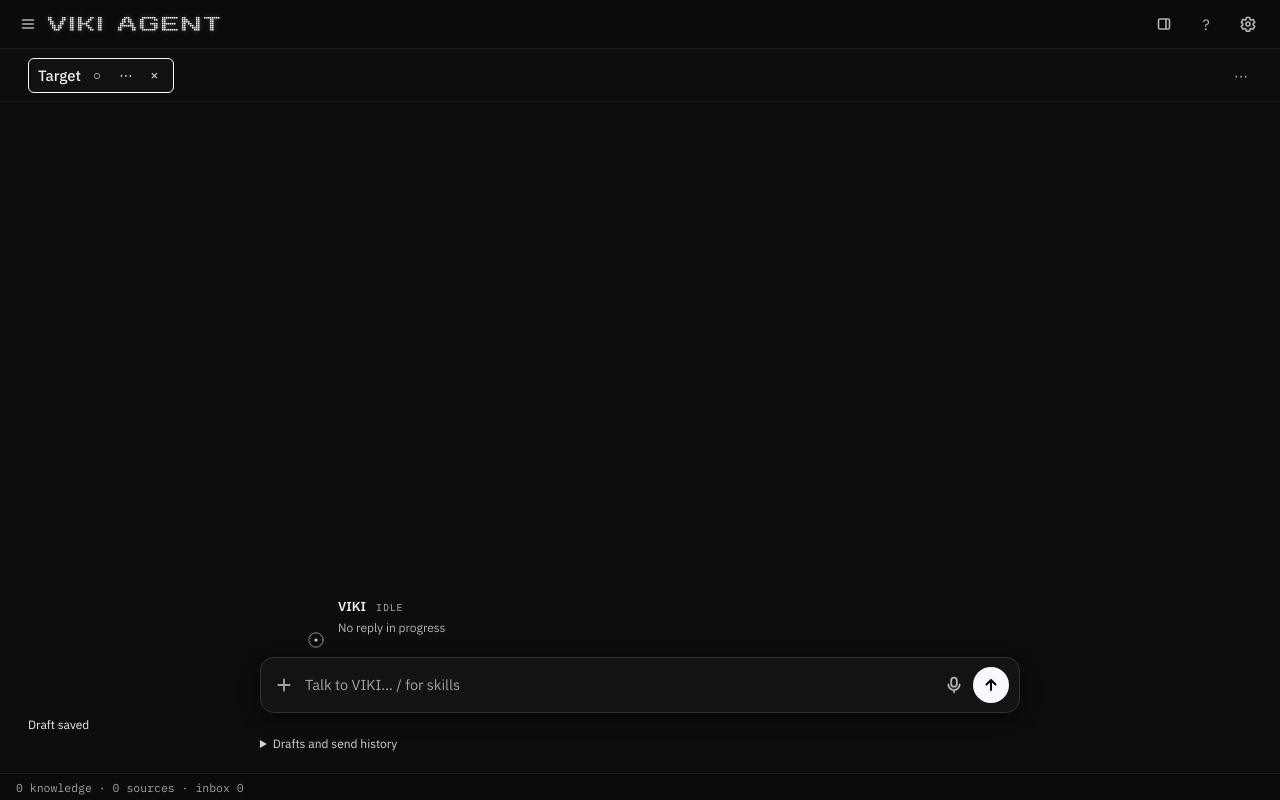
Scenario: a tab's window refusal stays visible with a closed Sessions drawer
Click the 1st button "⋯" at point(126, 75), box x1=113 y1=66 x2=138 y2=84
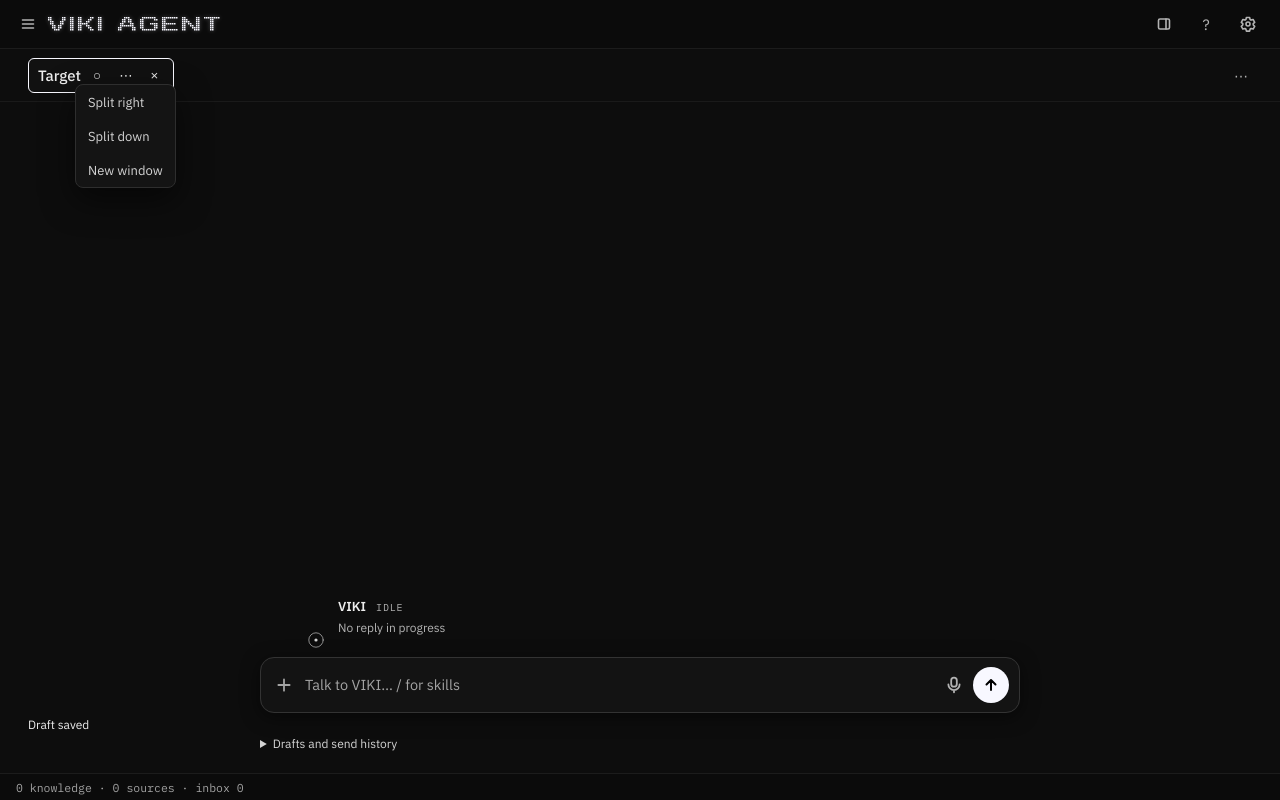
Click the menu item "New window" at point(125, 170), box x1=88 y1=162 x2=163 y2=178
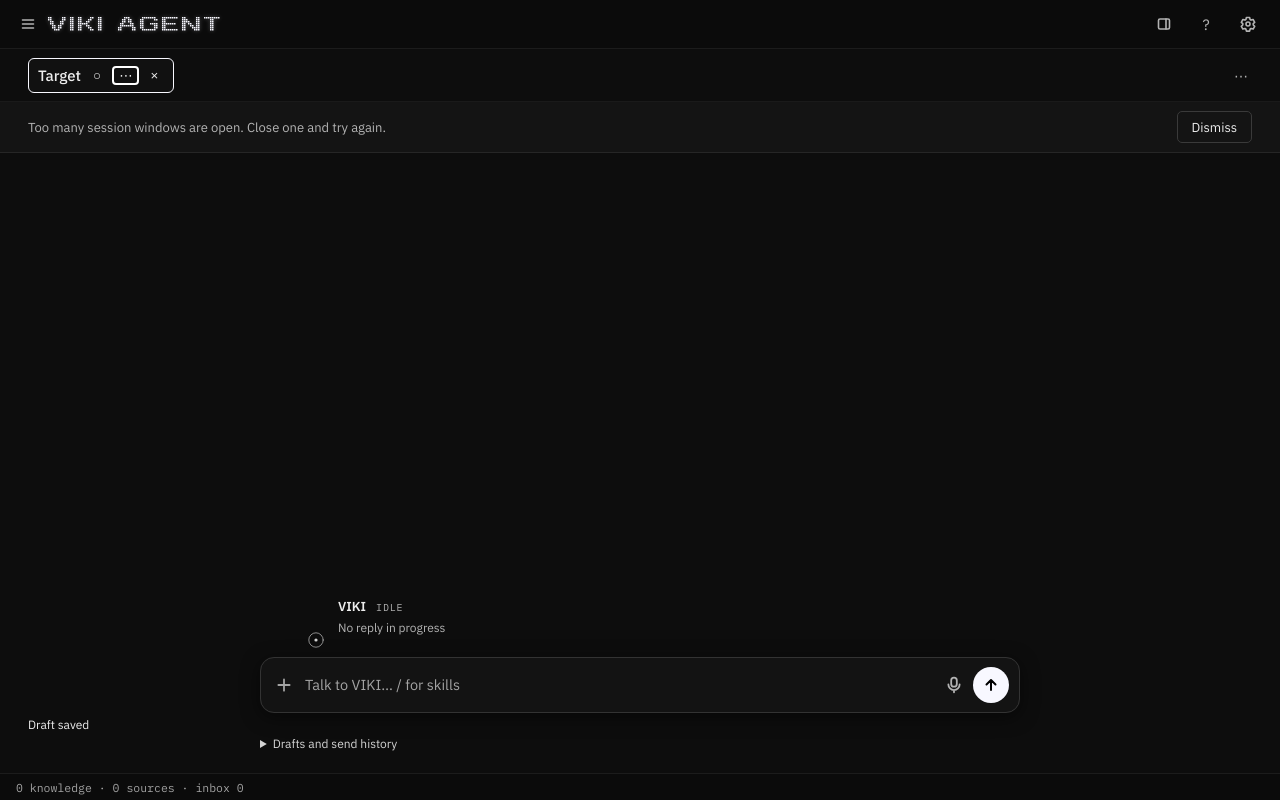
Expected: the message "Too many session windows are open. Close one and try again." is shown, x1=28 y1=118 x2=386 y2=136
Click the button "Dismiss" at point(1214, 127), box x1=1176 y1=111 x2=1252 y2=143
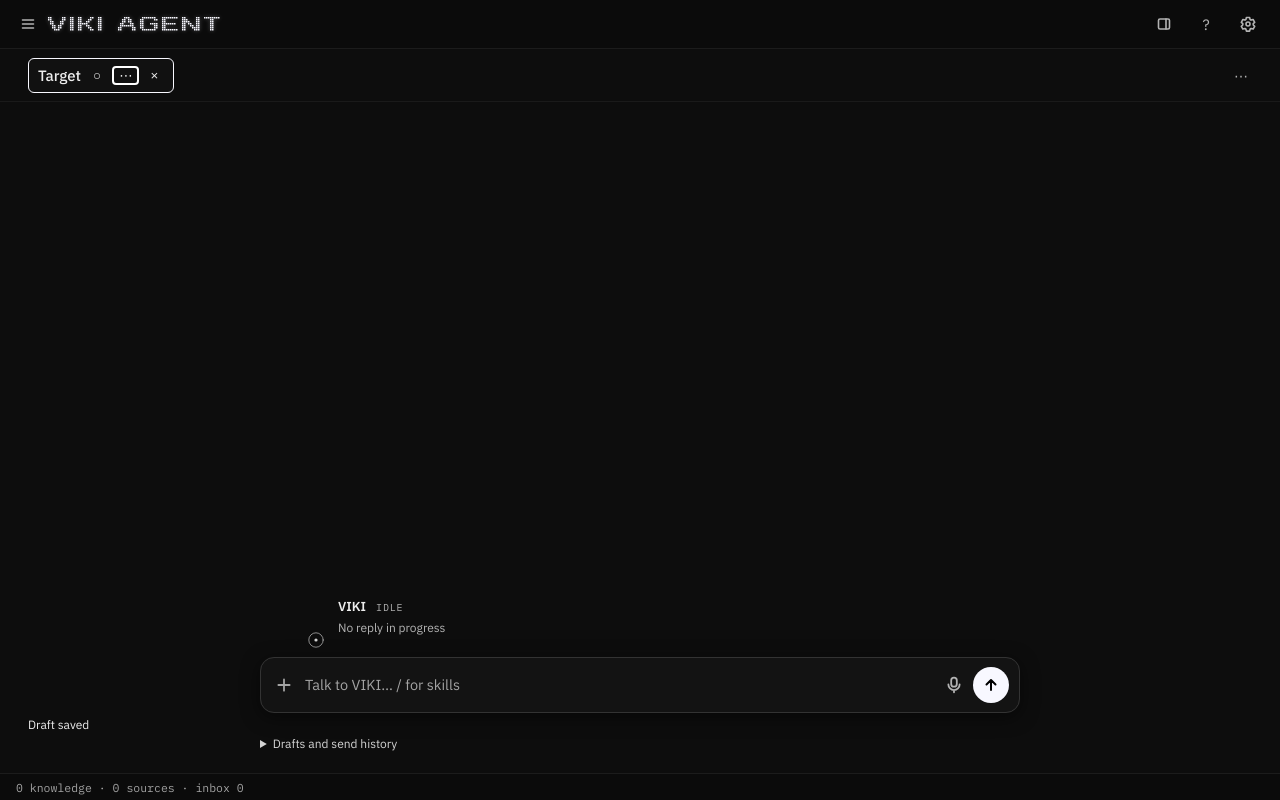
Expected: the message "Too many session windows are open. Close one and try again." is gone
